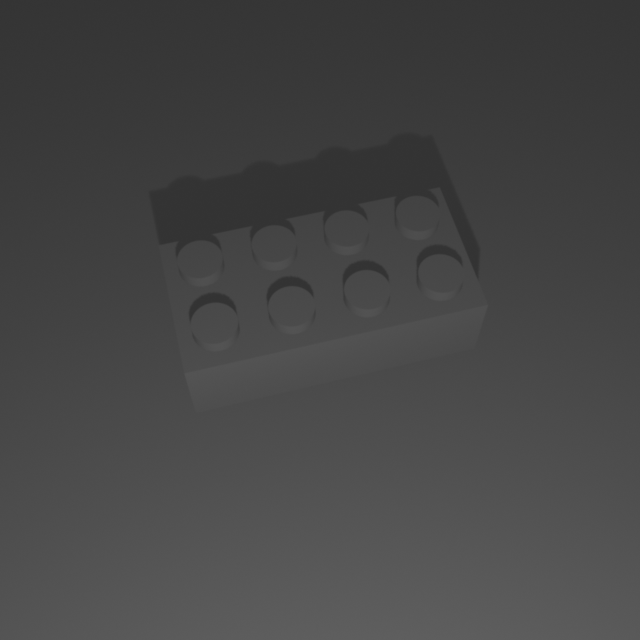lego_2x4: (156, 178, 491, 413)
